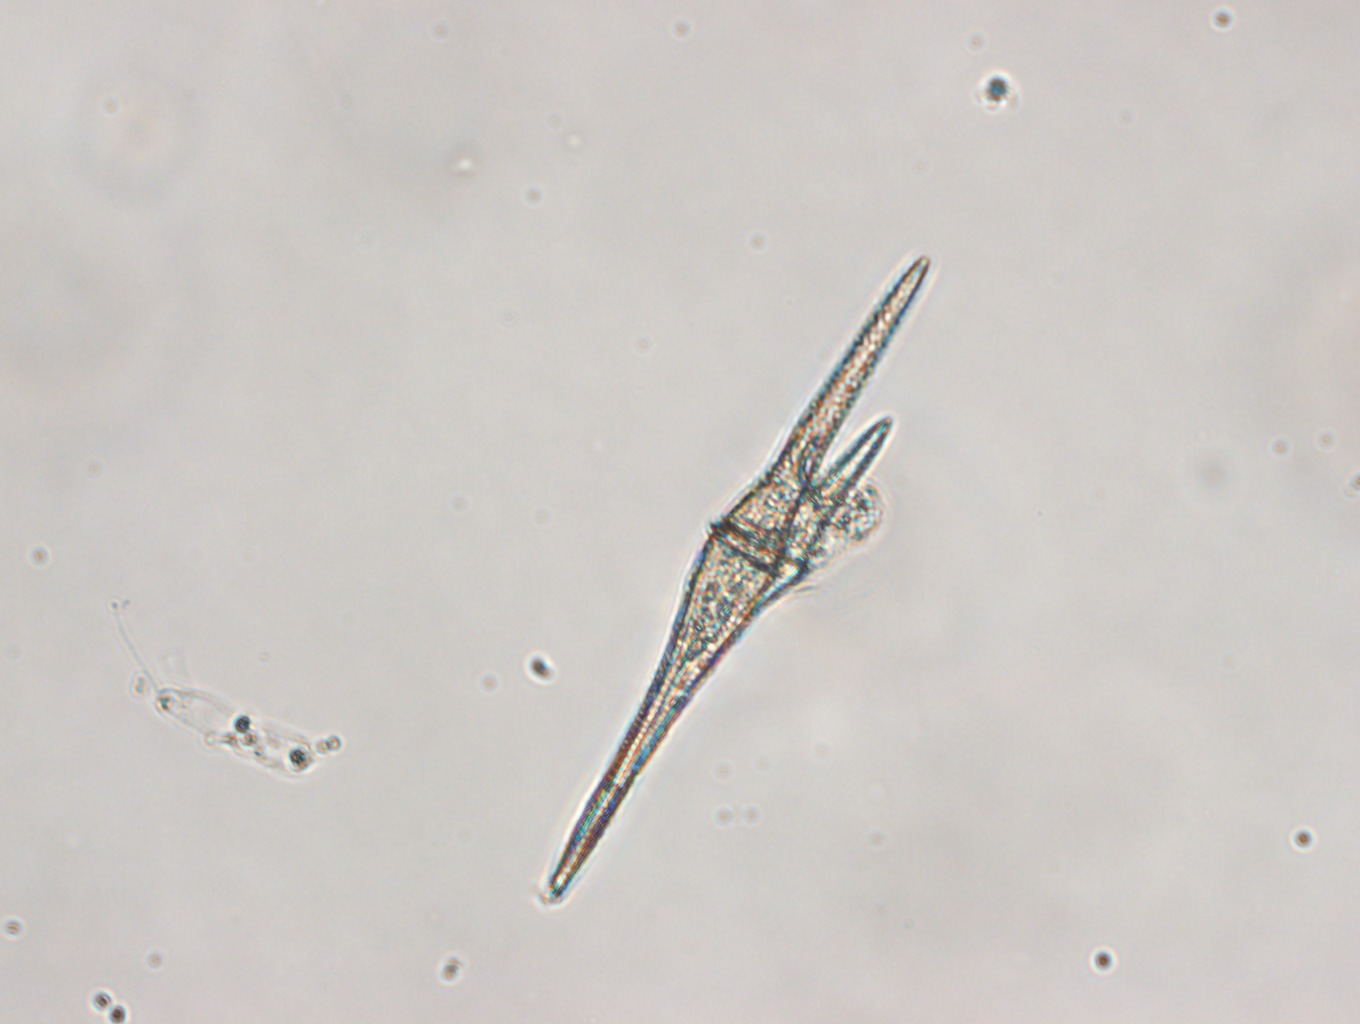ceratium furca: (548, 252, 931, 901)
